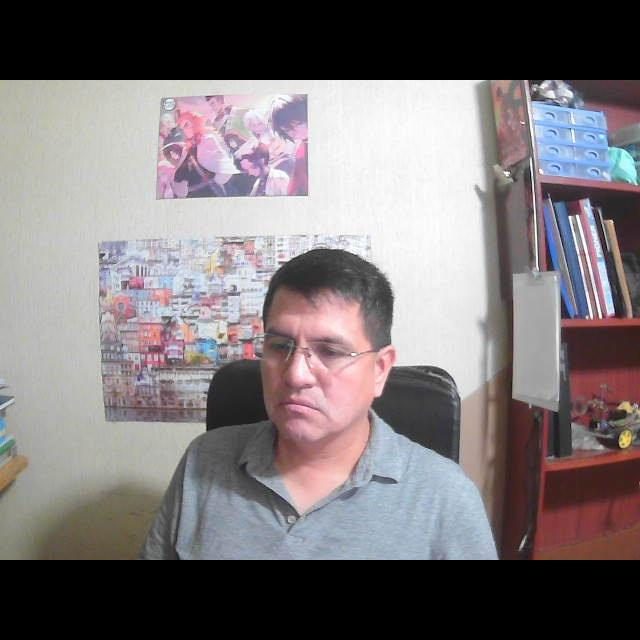cesar: (241, 235, 409, 472)
